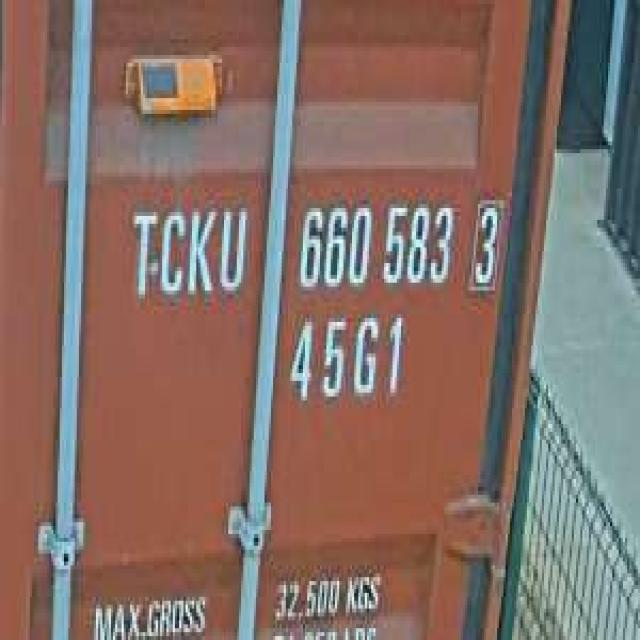dv: (465, 188, 506, 298)
owner: (123, 192, 250, 310)
serial: (290, 188, 455, 298)
size: (282, 306, 408, 416)
